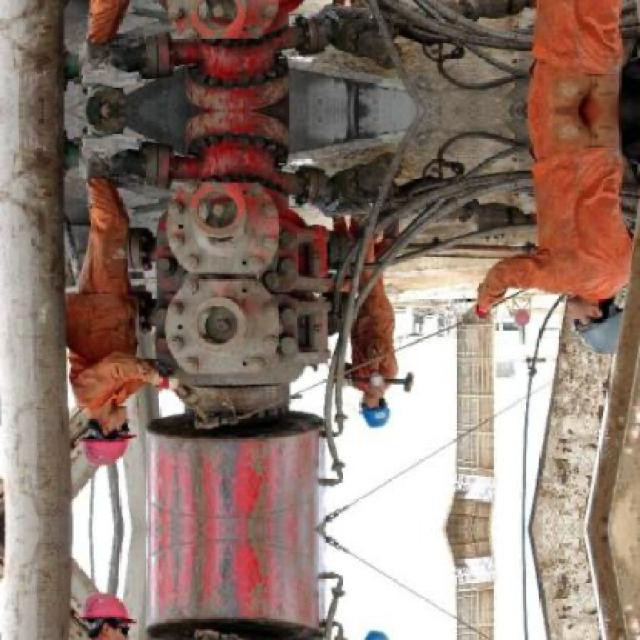con casco: (51, 379, 152, 487), (553, 278, 634, 362), (352, 392, 418, 439)
